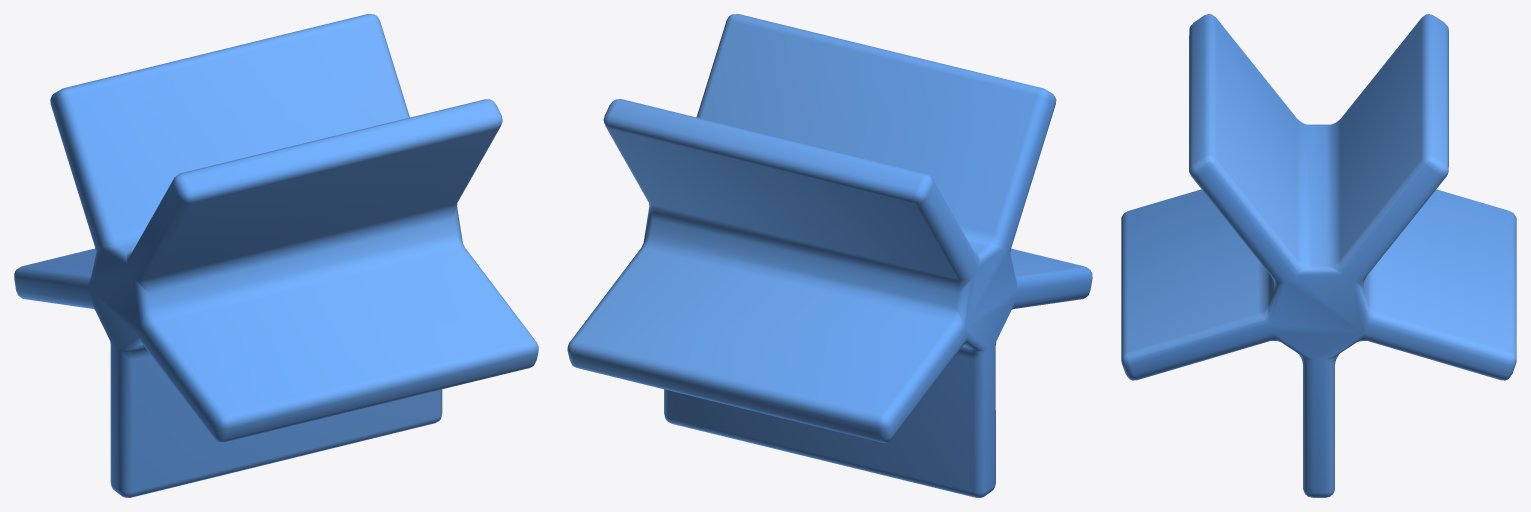
Rendered from platformcirclevertical_001.fbx.
3 renders of one model, left to right at view 1: azimuth 30°, elevation 25°; view 2: azimuth 150°, elevation 25°; view 3: azimuth 270°, elevation 25°, orthographic. The views are drawn at different scales.
Parts seen in each view (by area): view 1: Cylinder.004; view 2: Cylinder.004; view 3: Cylinder.004.
Part boxes in pixels (box(x1,y1,x2,y2)): Cylinder.004: box(14, 14, 538, 497); Cylinder.004: box(567, 14, 1092, 497); Cylinder.004: box(1121, 14, 1516, 497).
Size of the model in its own units: 197 by 212 by 223.
Materials: 1 (1 with a texture image).
